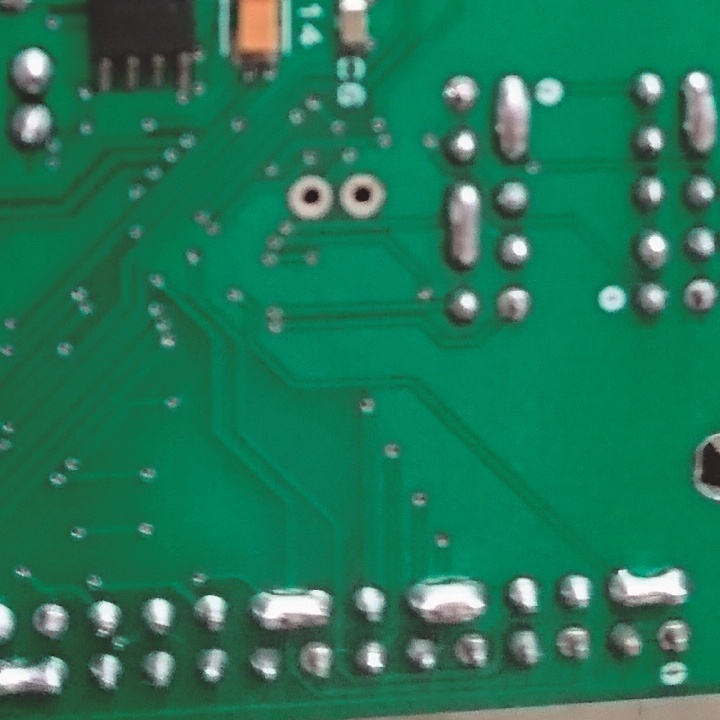F: (285, 172, 336, 225), (337, 170, 389, 221), (26, 602, 72, 643), (440, 72, 483, 115), (297, 639, 336, 685), (451, 632, 493, 672), (493, 283, 532, 325), (552, 623, 590, 665), (681, 275, 720, 315), (654, 620, 696, 657)
P: (404, 574, 489, 628), (603, 566, 690, 615), (493, 75, 539, 165), (676, 69, 720, 156), (250, 586, 332, 632), (444, 179, 481, 272), (1, 655, 73, 702)
